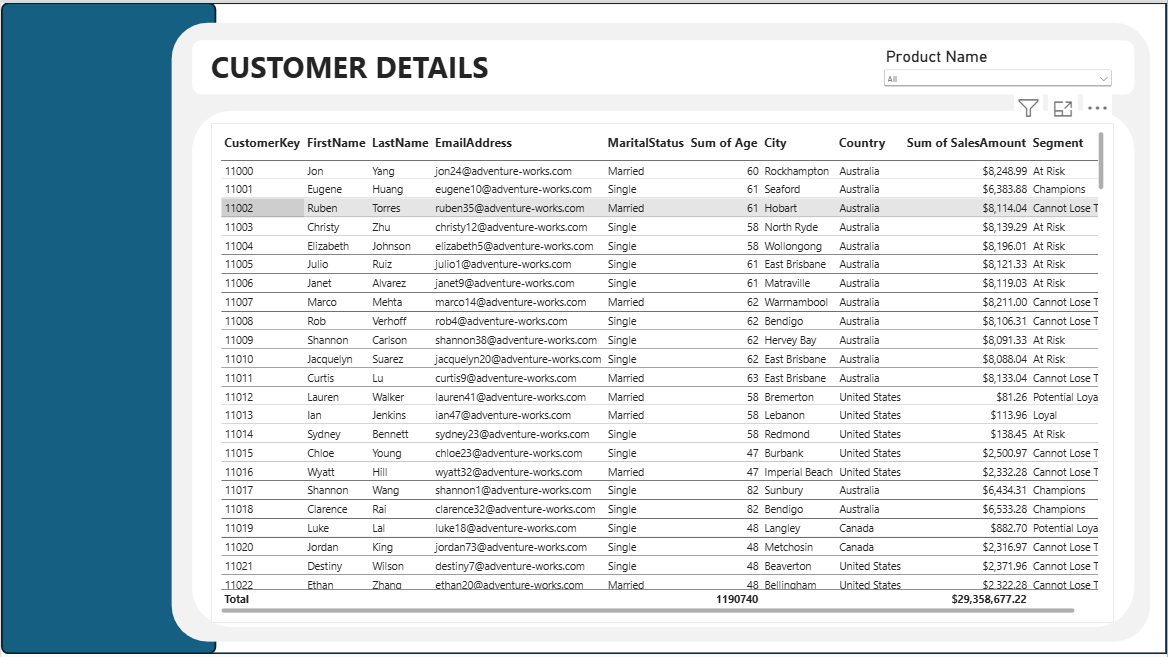

What the dashboard file says about the page in this screenshot:
{"tool":"powerbi","page":{"name":"Customer Details","canvas":[1920,1080],"ordinal":2},"visuals":[{"type":"textbox","box":[345,72.5,685,67.5],"z":0},{"type":"tableEx","fields":{"Values":["DimCustomer.CustomerKey","DimCustomer.FirstName","DimCustomer.LastName","DimCustomer.EmailAddress","DimCustomer.MaritalStatus","Sum(DimCustomer.Age)","DimGeography.City","DimGeography.Country","Sum(FactInternetSales.SalesAmount)","Segments Table.Segment"]},"box":[345.8,197.6,1486.1,823.3],"z":1000},{"type":"slicer","fields":{"Values":["DimProduct.Product Name"]},"box":[1450,72.5,385,67.5],"z":2000}]}

Visuals, with their boxes in screenshot pixels (x1, y1, x2, y2), scaled from the page's 1920x1080 canvas onto the 1168x657 screenshot:
textbox: [left=210, top=44, right=627, bottom=85]
tableEx - DimCustomer.CustomerKey x DimCustomer.FirstName: [left=210, top=120, right=1114, bottom=621]
slicer - DimProduct.Product Name: [left=882, top=44, right=1116, bottom=85]
